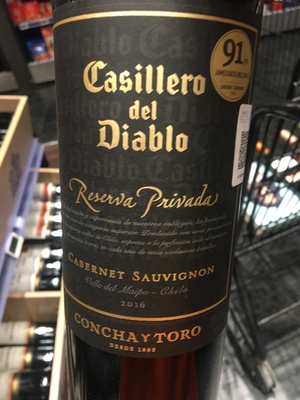casillero del diablo reserva privada cabernet sauvignon: (50, 6, 269, 394)
